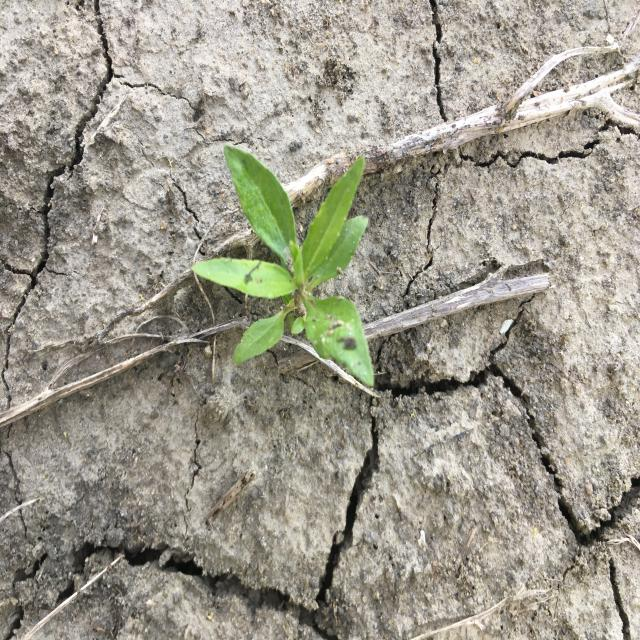Eclipta: (189, 144, 375, 388)
